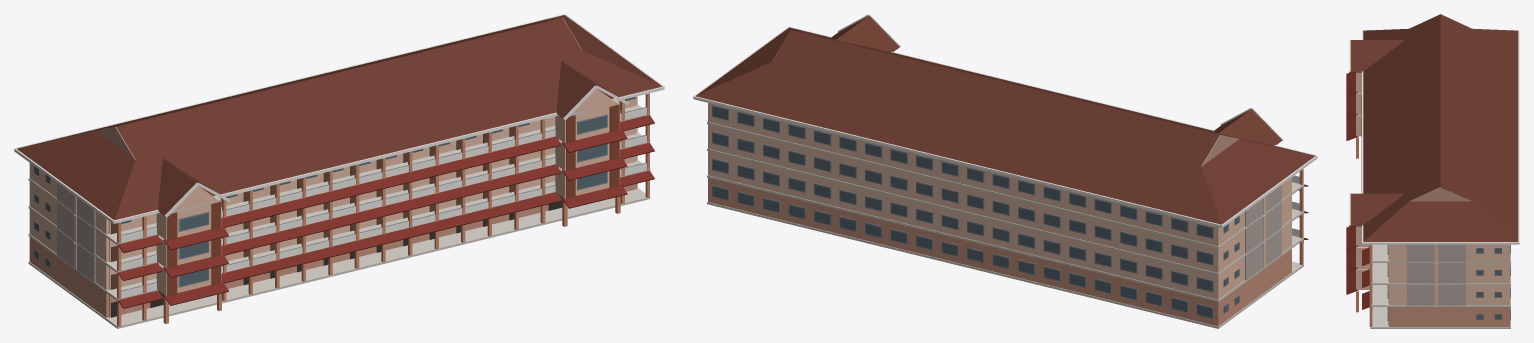
3 views of the same model, side by side, from view 1: azimuth 30°, elevation 25°; view 2: azimuth 150°, elevation 25°; view 3: azimuth 270°, elevation 25° (orthographic). The views are drawn at different scales.
Parts seen in each view (by area): view 1: roof, lvl0, lvl1, lvl2, lvl3; view 2: roof, lvl2, lvl1, lvl0, lvl3; view 3: roof, lvl2, lvl1, lvl0, lvl3.
Part boxes in pixels (box(x1,y1,x2,y2)): roof: box(14, 14, 664, 223); lvl0: box(28, 170, 654, 328); lvl1: box(28, 142, 654, 300); lvl2: box(28, 115, 654, 273); lvl3: box(28, 93, 650, 245); roof: box(693, 14, 1317, 227); lvl2: box(707, 124, 1308, 275); lvl1: box(707, 151, 1308, 302); lvl0: box(707, 178, 1308, 328); lvl3: box(707, 103, 1303, 248); roof: box(1349, 14, 1519, 244); lvl2: box(1346, 72, 1510, 284); lvl1: box(1346, 94, 1510, 306); lvl0: box(1346, 116, 1510, 328); lvl3: box(1355, 72, 1510, 262).
Size of the model in its own units: 83.02 by 22.9 by 28.57.
Materials: 14 (1 with a texture image).
